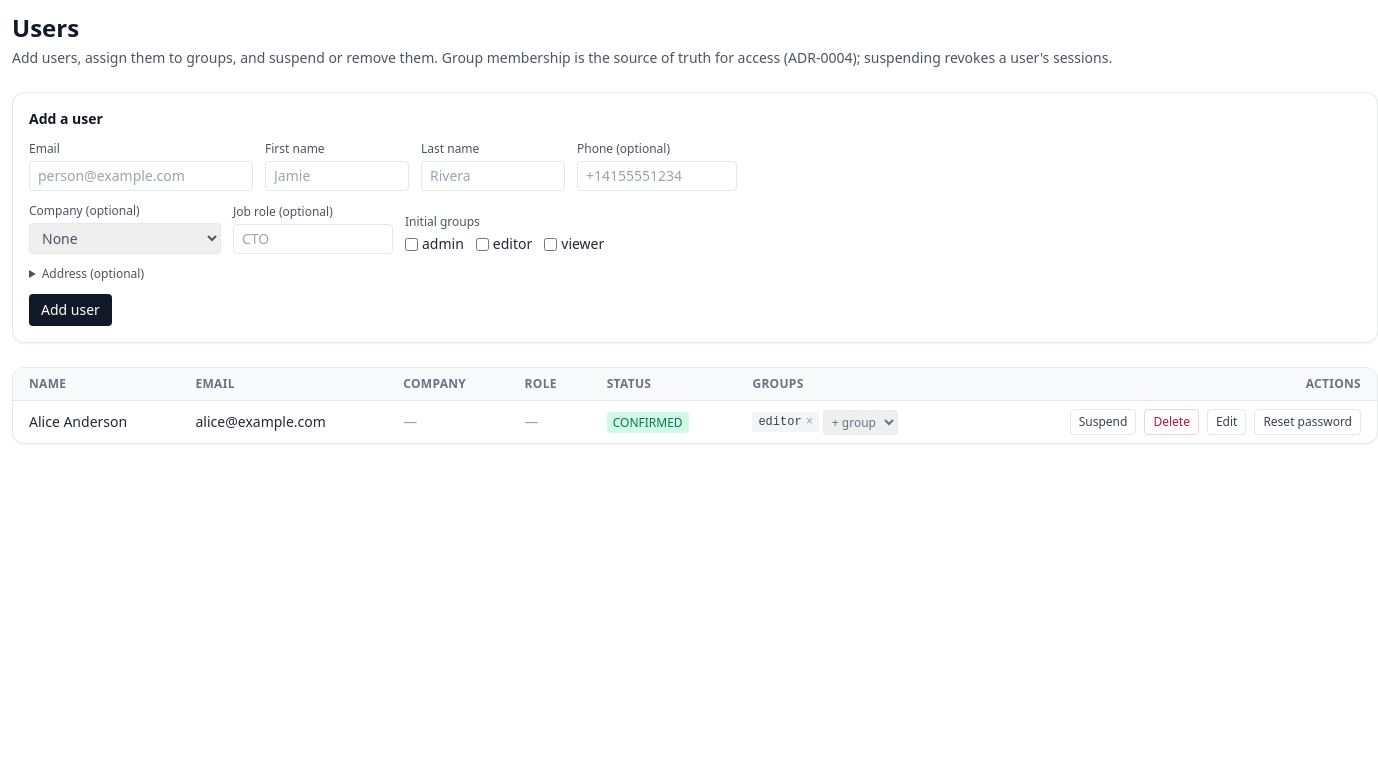
Test: UsersPage › edit existing user (#633) › opens a prefilled edit form and saves the changes
Click the button "Edit" at {"x": 1227, "y": 422}, box [1207,409,1246,435]
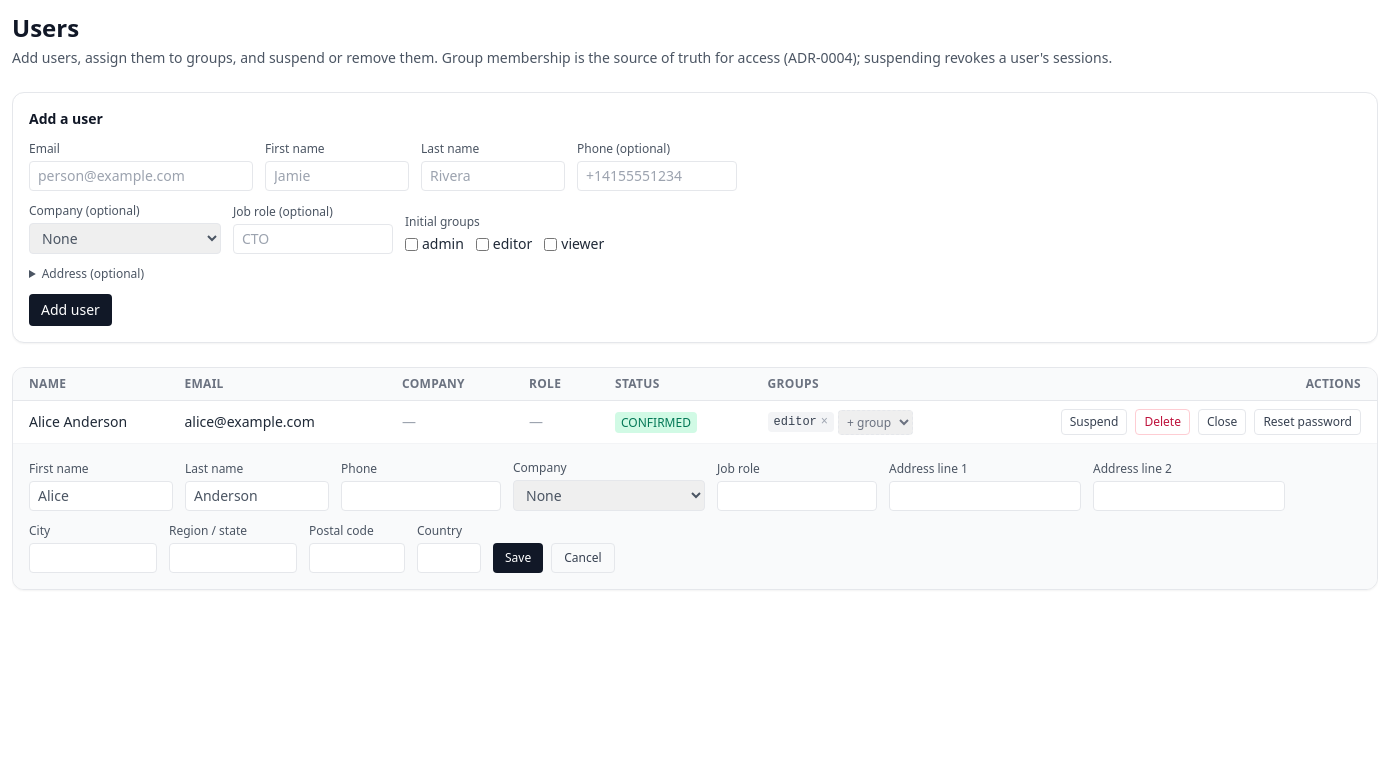
expect the field showing "Alice" below "Alice Anderson" is shown: met, box [29,481,173,511]
Type "CTO" into the field labelled "Job role" at {"x": 797, "y": 496}, box [717,481,877,511]
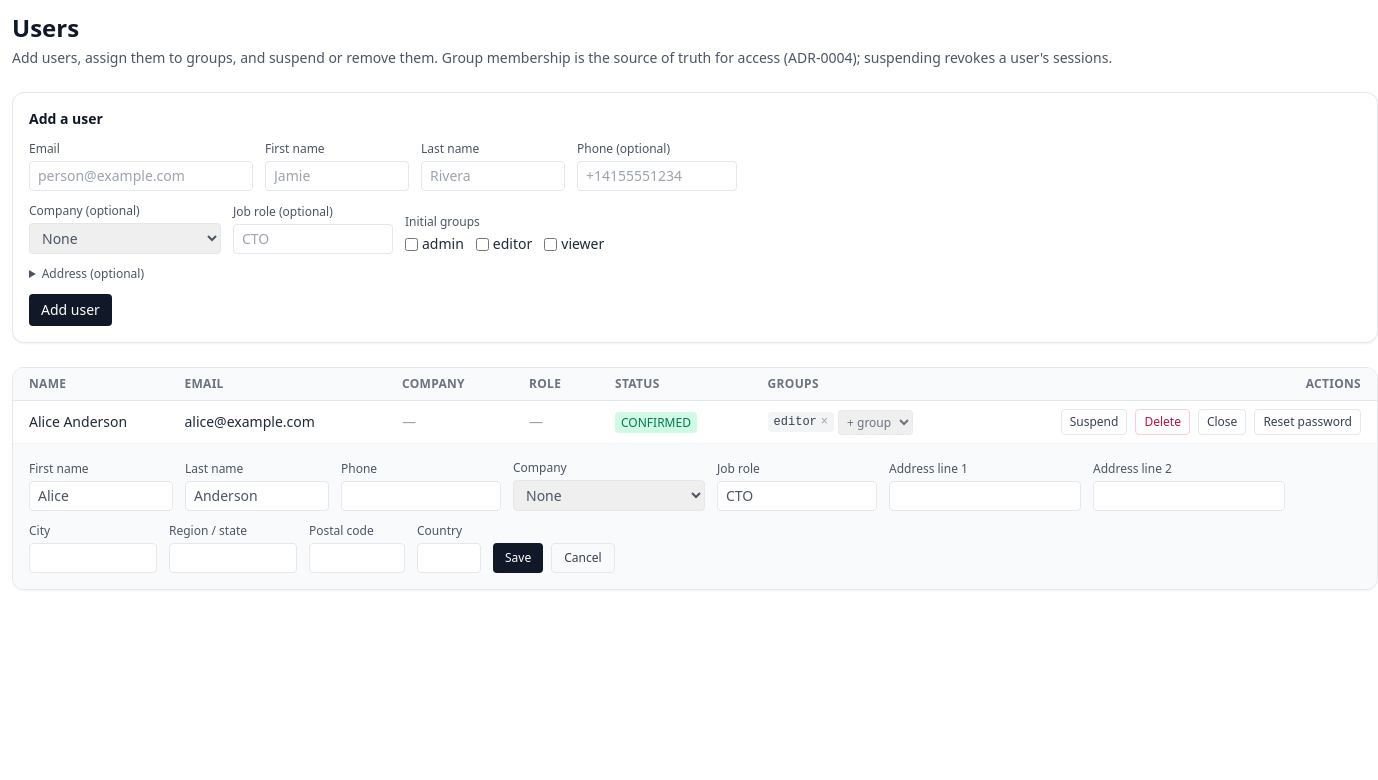
Click the button "Save" at {"x": 518, "y": 558}, box [493,543,543,573]
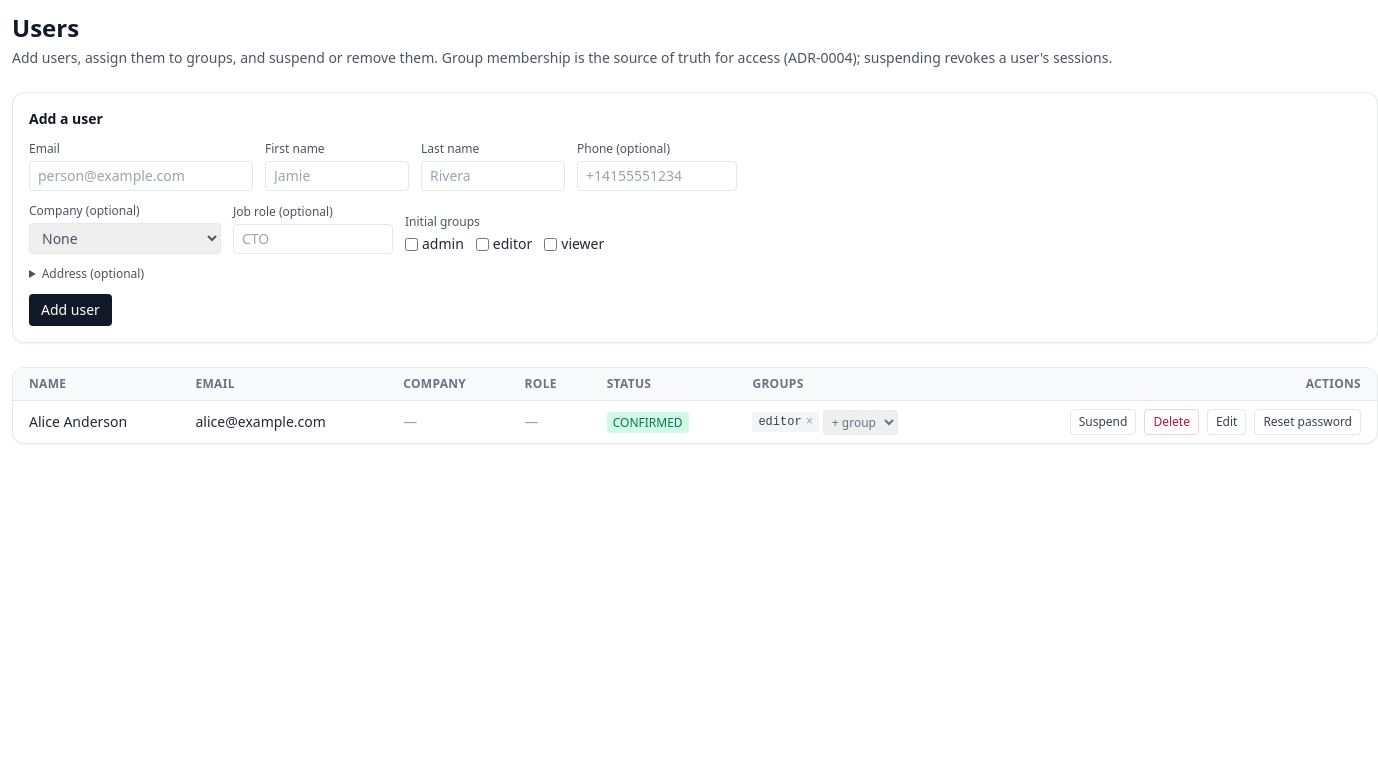
expect the button "Save" is gone: met
